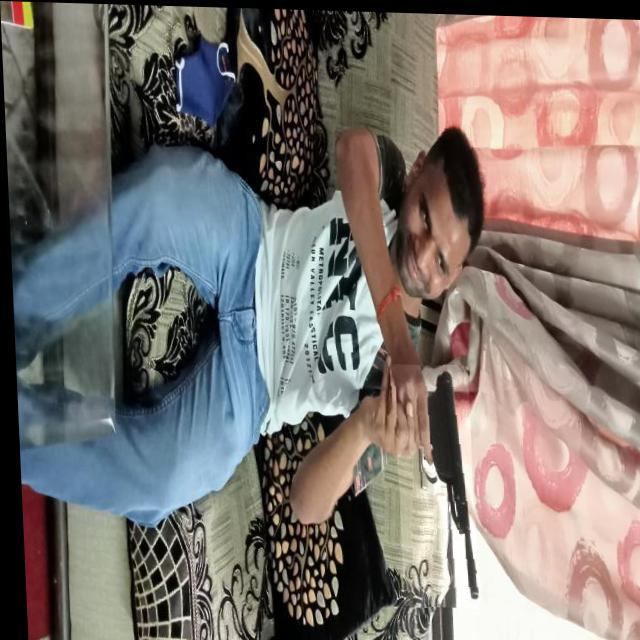handgun: (388, 360, 475, 606)
